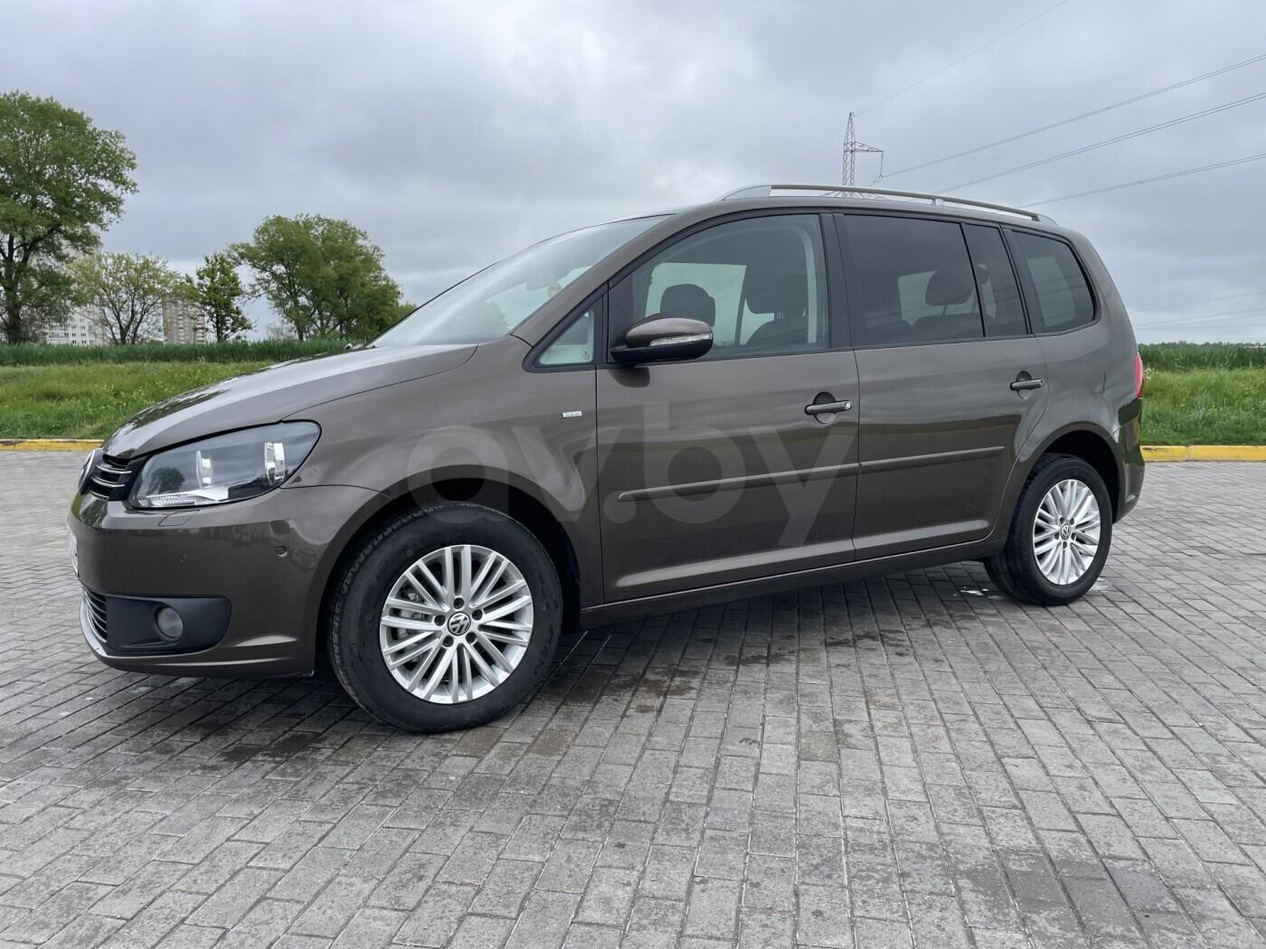Touran_2010-2015: (65, 178, 1146, 730)
